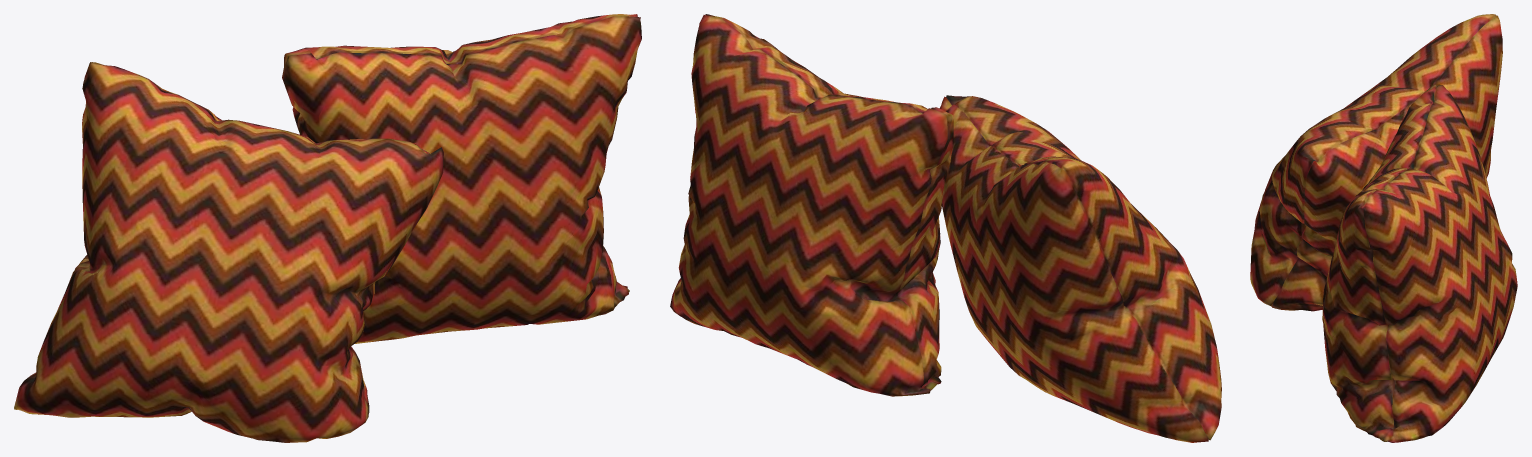
The model's file is throw_pillows_01.glb.
3 views of the same model, side by side, from view 1: azimuth 30°, elevation 25°; view 2: azimuth 150°, elevation 25°; view 3: azimuth 270°, elevation 25° (orthographic). The views are drawn at different scales.
Visible parts, largest first — view 1: throw_pillows_01_pillow01, throw_pillows_01_pillow02; view 2: throw_pillows_01_pillow02, throw_pillows_01_pillow01; view 3: throw_pillows_01_pillow02, throw_pillows_01_pillow01.
Part boxes in pixels (<box>): throw_pillows_01_pillow01: <box>14,62,443,442</box>; throw_pillows_01_pillow02: <box>282,14,641,343</box>; throw_pillows_01_pillow02: <box>670,14,953,396</box>; throw_pillows_01_pillow01: <box>939,95,1221,442</box>; throw_pillows_01_pillow02: <box>1322,84,1517,442</box>; throw_pillows_01_pillow01: <box>1250,14,1502,311</box>.
Size of the model in its own units: 0.9401 by 0.4502 by 0.4519.
Materials: 1 (1 with a texture image).
